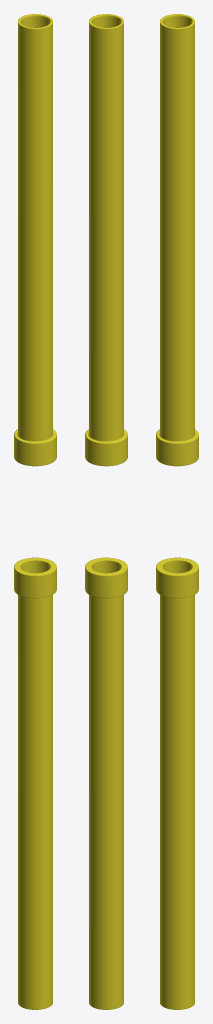
Rendered from GoldPipes.fbx.
3 renders of one model, left to right at view 1: azimuth 90°, elevation 25°; view 2: azimuth 210°, elevation 25°; view 3: azimuth 270°, elevation 25°, orthographic.
Parts seen in each view (by area): view 1: Pipe1, Pipe2; view 2: Pipe1, Pipe2; view 3: Pipe1, Pipe2.
Boxes of the visible parts, x1,y1,x2,y2 form: Pipe1: (14, 14, 56, 466); Pipe2: (14, 557, 56, 1009); Pipe1: (85, 14, 127, 466); Pipe2: (85, 557, 127, 1009); Pipe1: (156, 14, 198, 466); Pipe2: (156, 557, 198, 1009).
Bounding box in the file's own units: 364 × 9204 × 364.
